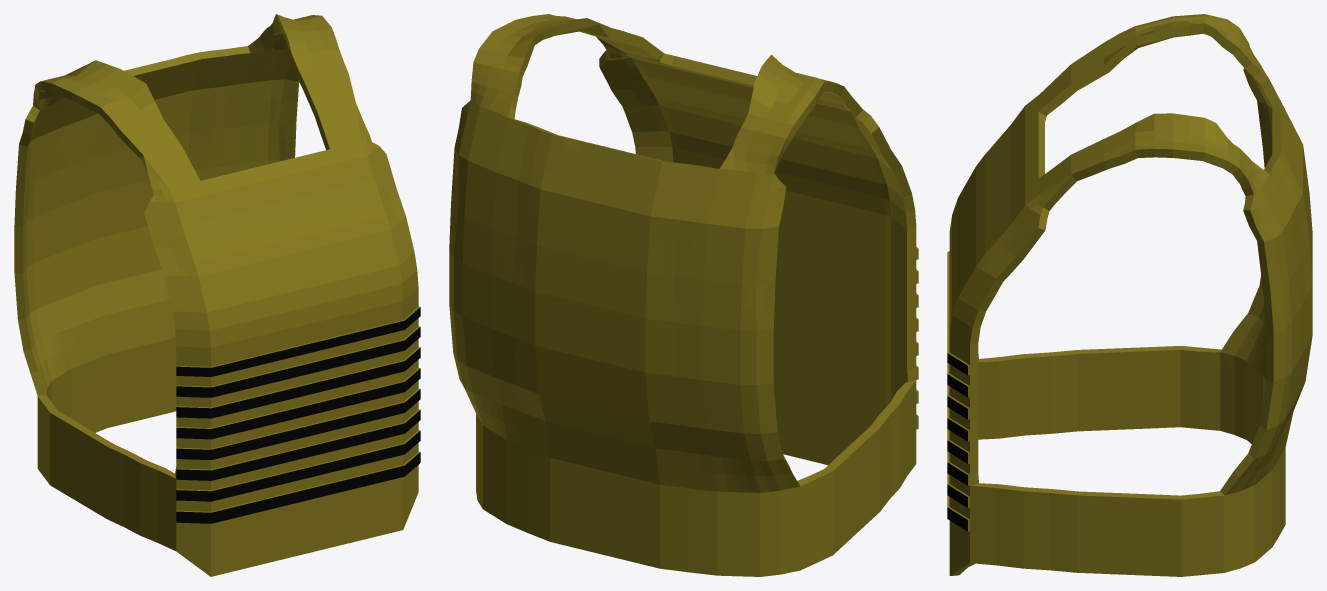
File: Br_Tors_1.fbx
The picture shows the model from 3 angles, left to right: view 1: azimuth 30°, elevation 25°; view 2: azimuth 150°, elevation 25°; view 3: azimuth 270°, elevation 25°; orthographic projection. The views are drawn at different scales.
Visible parts, largest first — view 1: Bronik; view 2: Bronik; view 3: Bronik.
Part boxes in pixels (x1,y1,x2,y2): Bronik: (14,14,420,576); Bronik: (449,14,918,576); Bronik: (947,14,1312,576).
Size of the model in its own units: 31.99 by 44.22 by 32.15.
